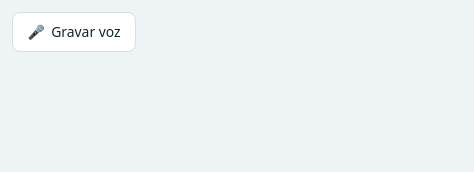
32-34. gravador de voz › 33. microfone negado mostra aviso claro e não quebra a conversa
The width and height of the screenshot is (474, 172).
Click the button with aria-label "gravar mensagem de voz": (74, 32) [12,12,136,52]
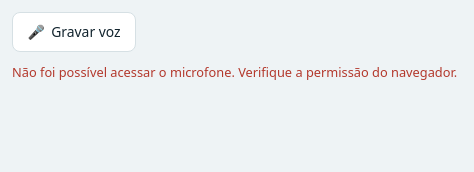
Check: the message shows "Não foi possível acessar o microfone", box [12,63,457,81]
Check: the message shows "permissão do navegador", box [12,63,457,81]
